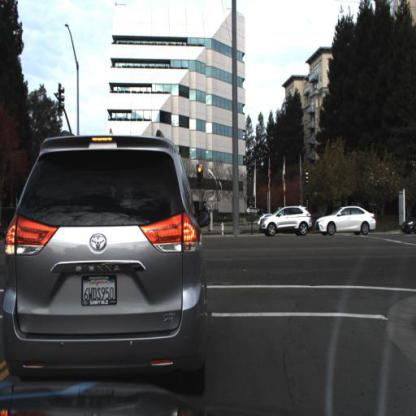car: (2, 126, 216, 396), (313, 205, 381, 245), (260, 198, 316, 240), (260, 203, 314, 239), (400, 209, 416, 242)
trafficLight-Red: (197, 161, 206, 190), (199, 166, 204, 182)
